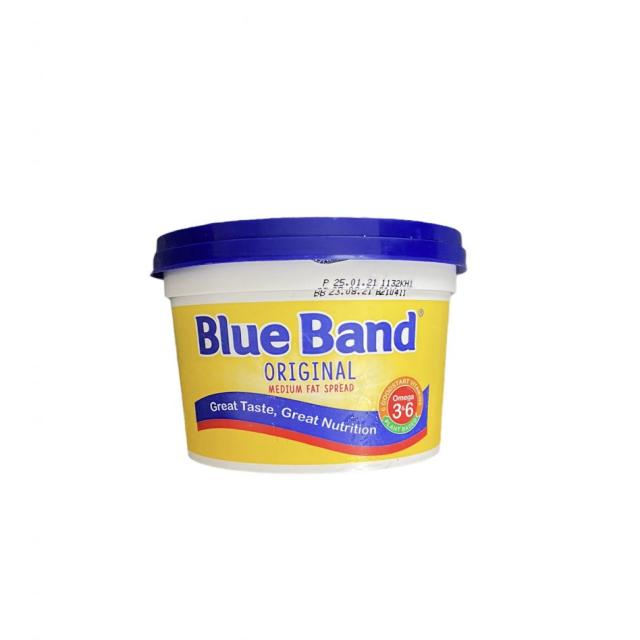butter: (149, 215, 467, 472)
